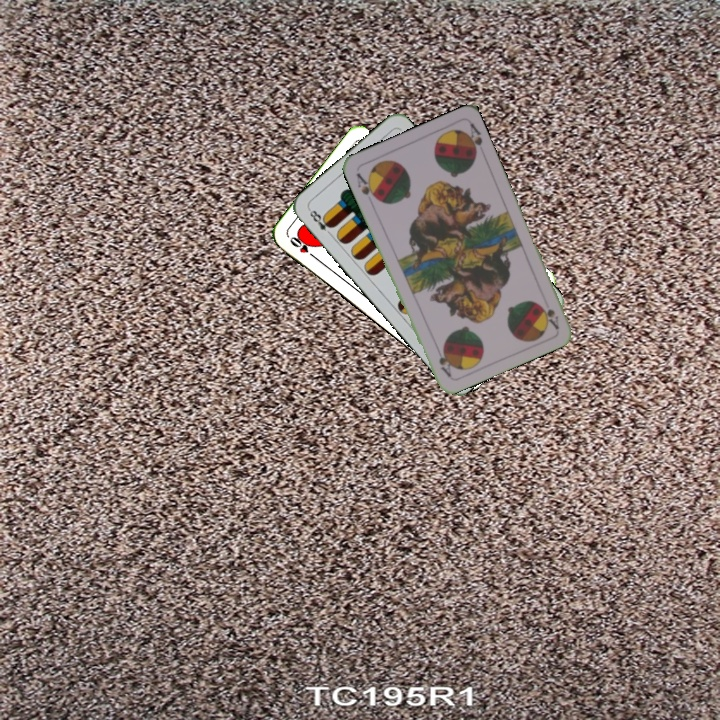E8: (304, 205, 336, 239)
HO: (285, 232, 319, 262)
SA: (352, 169, 380, 203), (536, 300, 562, 332)
